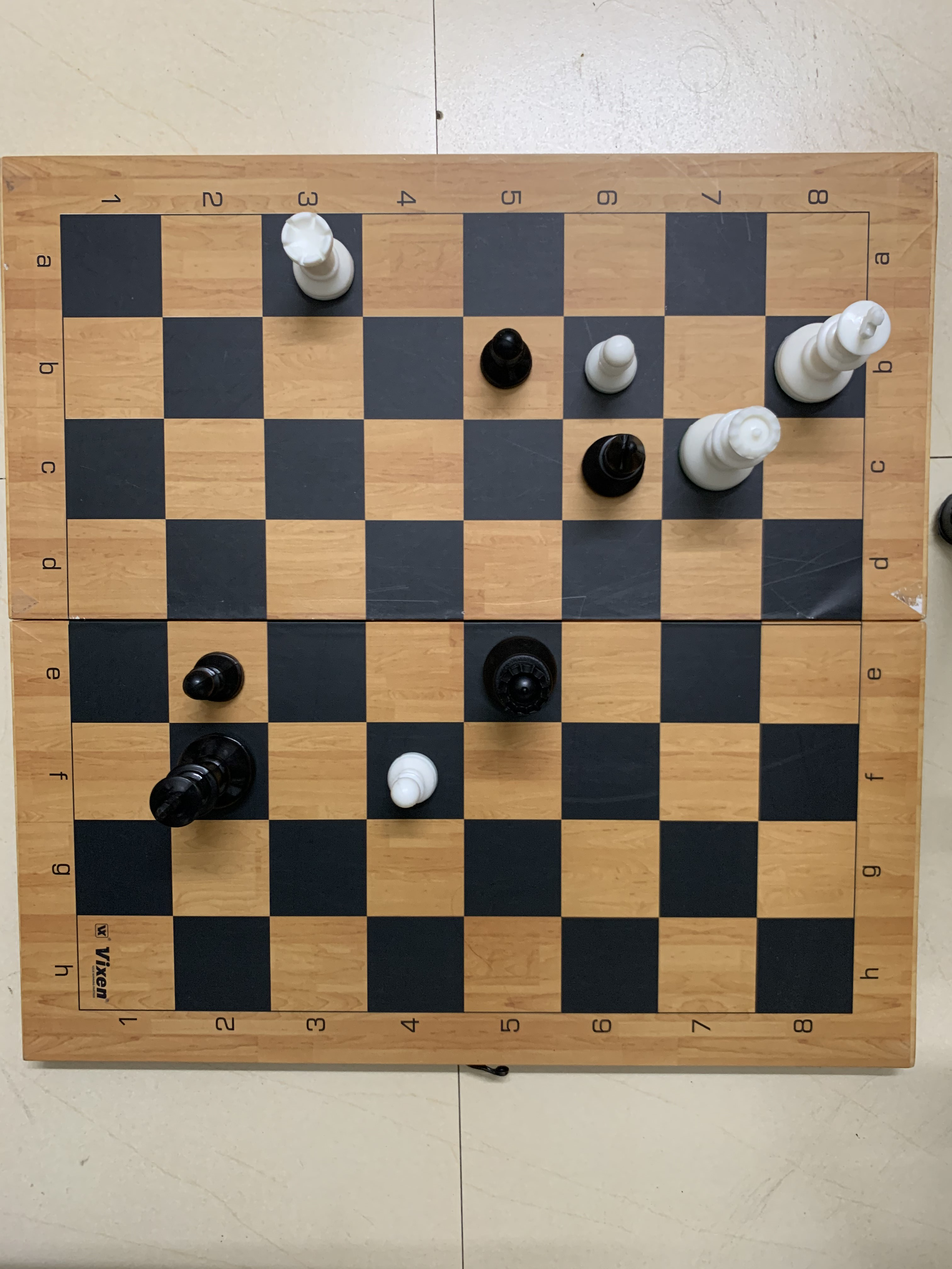black_bishop: (466, 630, 569, 734)
black_king: (126, 723, 266, 834)
black_pawn: (463, 312, 546, 419), (179, 628, 256, 717), (576, 433, 655, 507)
white_king: (774, 290, 901, 402)
white_pawn: (570, 321, 655, 412), (381, 732, 450, 819)
white_queen: (667, 400, 789, 499)
white_rook: (261, 203, 372, 317)
